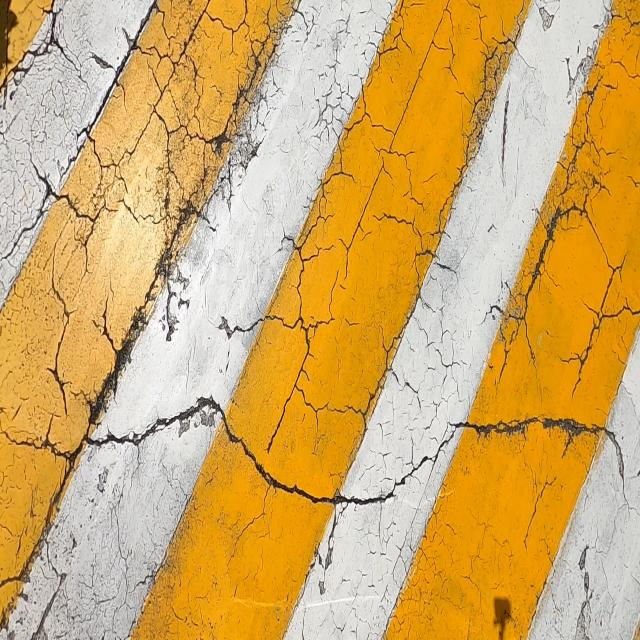Retak-Buaya: (224, 0, 510, 449), (12, 3, 300, 421), (488, 9, 640, 386)
Retak-Melintang: (3, 389, 630, 512)
